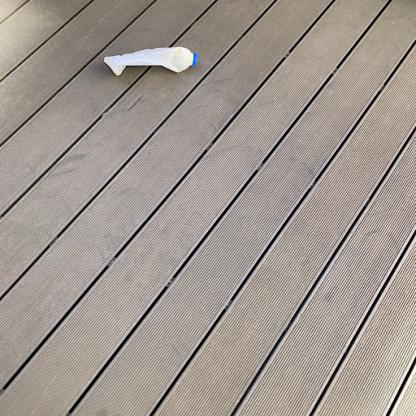trash: (99, 46, 199, 75)
